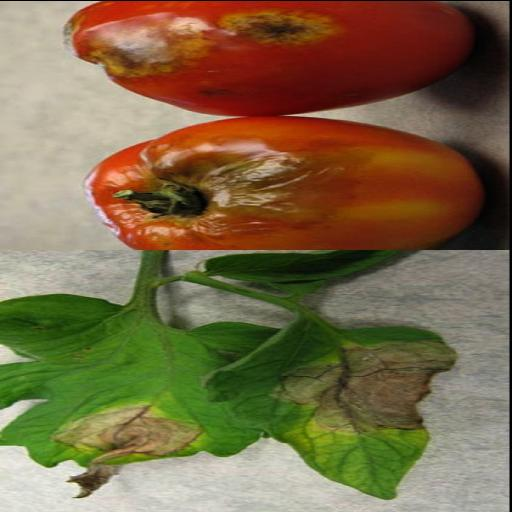disease_tomato: (0, 294, 258, 496), (202, 325, 457, 500)
